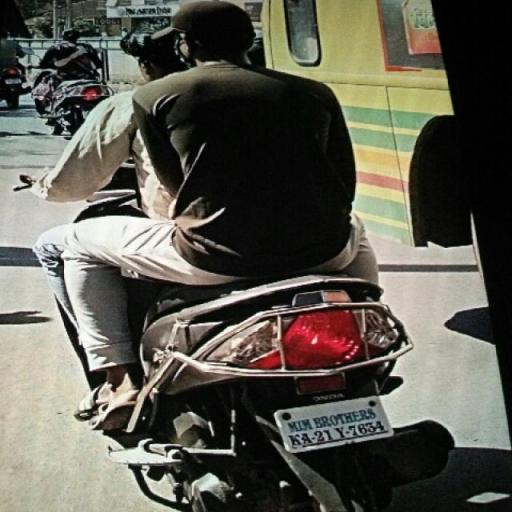bike: (16, 1, 458, 512)
numberplate: (274, 388, 396, 456)
withouthelmet: (177, 2, 245, 60), (127, 25, 175, 73)
